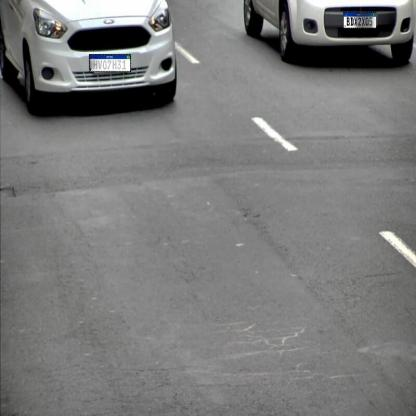PlacaM: (89, 54, 131, 72), (343, 12, 377, 28)
